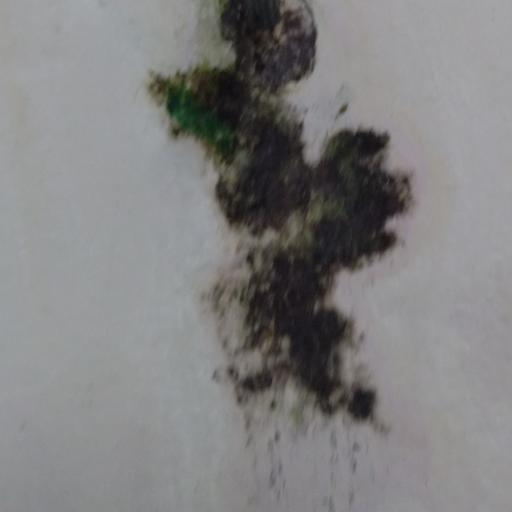algae: (143, 1, 447, 480)
